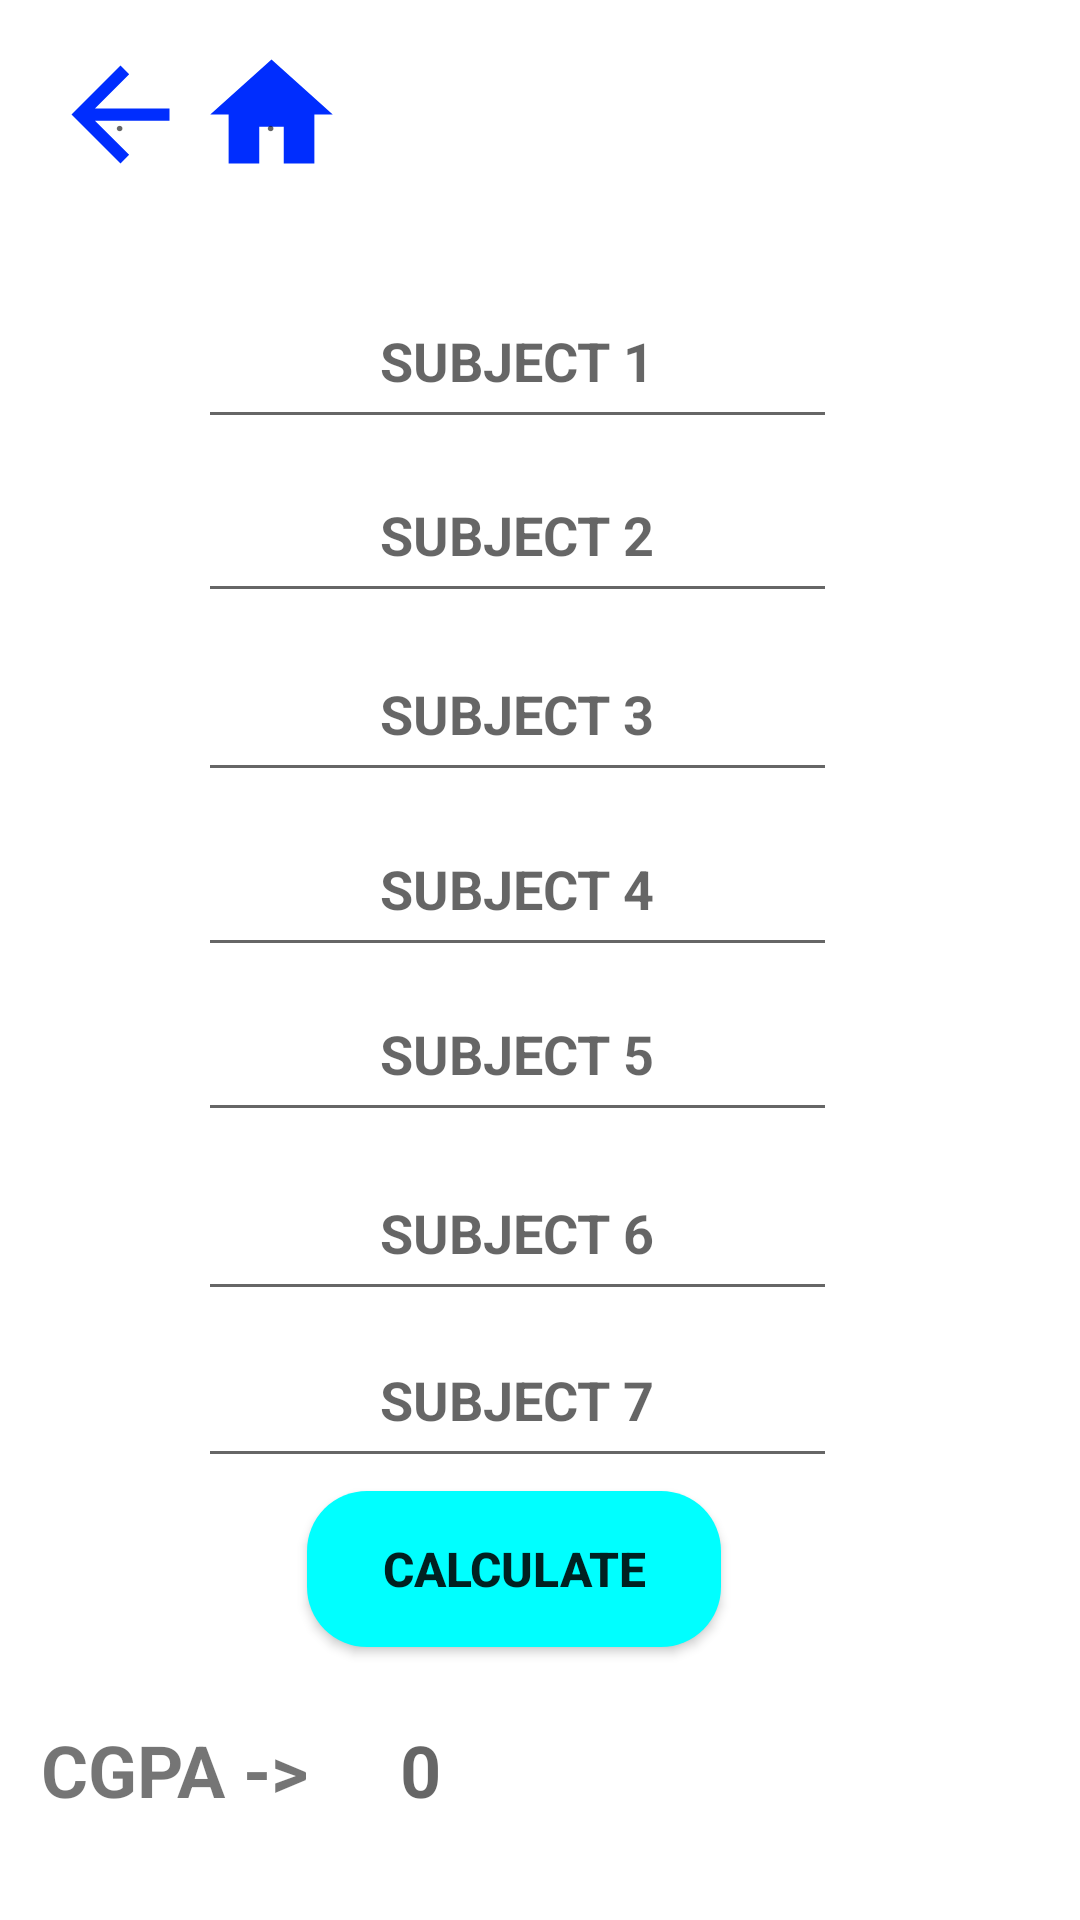

Where icons sit on this 1080px x 1920px app screen, as (x1, y1, x2, y2):
arrow back: (71, 65, 170, 164)
home: (210, 59, 333, 164)
